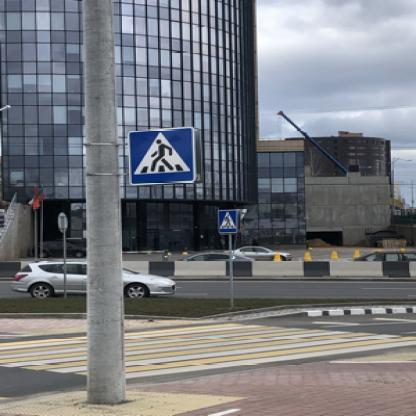crosswalk: (124, 126, 195, 186), (216, 209, 237, 233)
